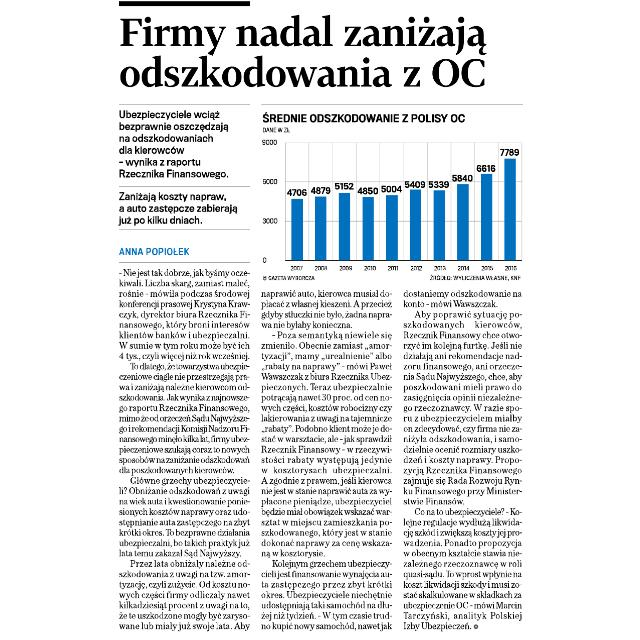author: (117, 243, 193, 259)
body: (114, 268, 254, 636), (258, 290, 394, 632), (398, 290, 528, 632)
caption: (261, 110, 469, 124)
image: (260, 124, 526, 274)
lead: (115, 106, 253, 228)
title: (118, 10, 506, 96)
